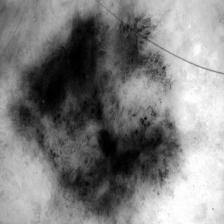Benign Marking or Mole: (11, 6, 192, 224)
